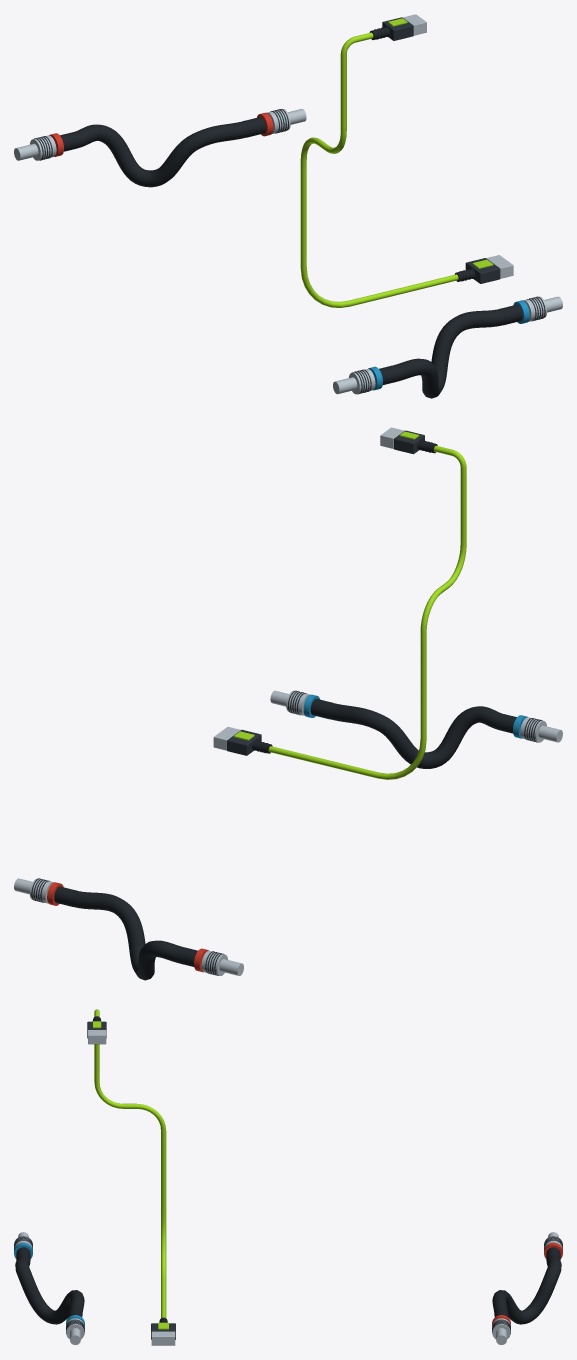
The model's file is SM_GJ_Harness_17.fbx.
3 renders of one model, top to bottom at view 1: azimuth 30°, elevation 25°; view 2: azimuth 150°, elevation 25°; view 3: azimuth 270°, elevation 25°, orthographic. The views are drawn at different scales.
Parts seen in each view (by area): view 1: SM_GJ_Harness_17; view 2: SM_GJ_Harness_17; view 3: SM_GJ_Harness_17.
Boxes of the visible parts, bbox=[...] form: SM_GJ_Harness_17: bbox=[14, 14, 562, 398]; SM_GJ_Harness_17: bbox=[14, 427, 562, 980]; SM_GJ_Harness_17: bbox=[14, 1009, 562, 1345].
Size of the model in its own units: 22.6 by 50.76 by 30.14.
